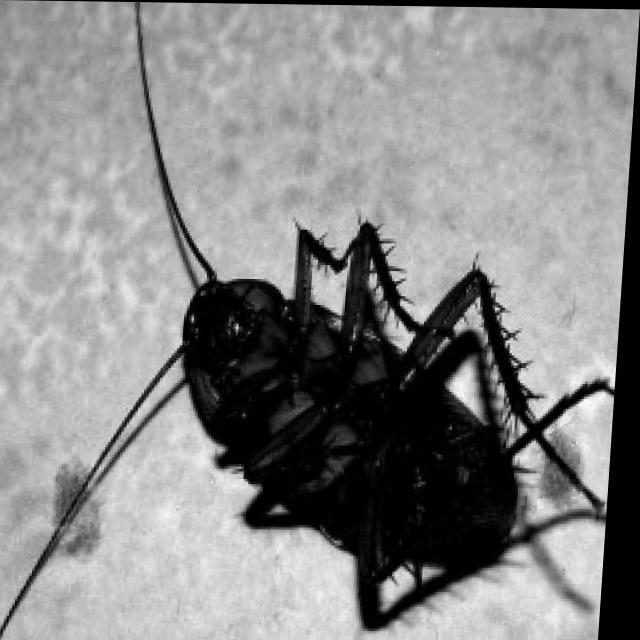cockroach: (132, 210, 616, 640)
